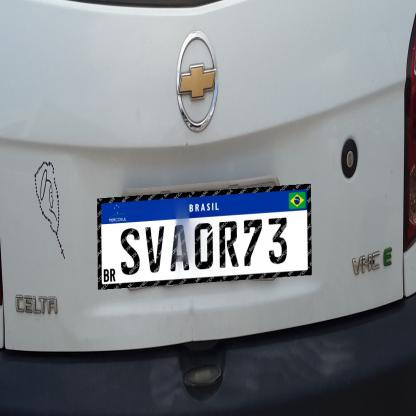PlacaM: (97, 184, 312, 289)
